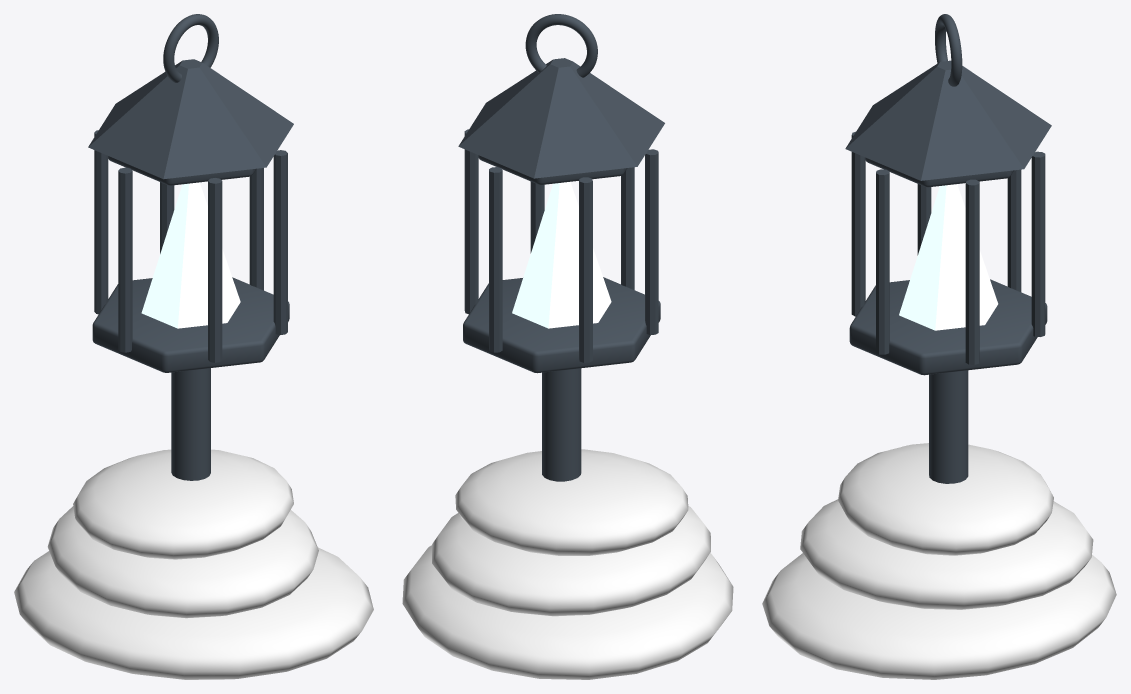
The model's file is aurora-beacon-lit.glb.
3 views of the same model, side by side, from view 1: azimuth 30°, elevation 25°; view 2: azimuth 150°, elevation 25°; view 3: azimuth 270°, elevation 25° (orthographic).
Visible parts, largest first — view 1: titan.beacon.stone.0, titan.beacon.stone.2, titan.beacon.stone.1, titan.beacon.roof, titan.beacon.cage-base, titan.beacon.crystal, titan.beacon.pole, titan.beacon.bar.4, titan.beacon.bar.3, titan.beacon.bar.5, titan.beacon.bar.2, titan.beacon.bar.0 (+3 smaller); view 2: titan.beacon.stone.0, titan.beacon.stone.2, titan.beacon.stone.1, titan.beacon.roof, titan.beacon.cage-base, titan.beacon.crystal, titan.beacon.pole, titan.beacon.bar.1, titan.beacon.bar.2, titan.beacon.bar.3, titan.beacon.bar.0, titan.beacon.handle (+3 smaller); view 3: titan.beacon.stone.0, titan.beacon.stone.1, titan.beacon.stone.2, titan.beacon.roof, titan.beacon.cage-base, titan.beacon.crystal, titan.beacon.pole, titan.beacon.bar.0, titan.beacon.bar.1, titan.beacon.bar.5, titan.beacon.bar.4, titan.beacon.bar.2 (+3 smaller).
Boxes of the visible parts, left/top/right/bottom form: titan.beacon.stone.0: left=14, top=547, right=373, bottom=679; titan.beacon.stone.2: left=73, top=449, right=293, bottom=559; titan.beacon.stone.1: left=47, top=506, right=318, bottom=618; titan.beacon.roof: left=88, top=59, right=293, bottom=179; titan.beacon.cage-base: left=92, top=277, right=289, bottom=372; titan.beacon.crystal: left=141, top=182, right=240, bottom=328; titan.beacon.pole: left=171, top=368, right=210, bottom=480; titan.beacon.bar.4: left=208, top=178, right=222, bottom=362; titan.beacon.bar.3: left=118, top=167, right=132, bottom=352; titan.beacon.bar.5: left=273, top=150, right=287, bottom=334; titan.beacon.bar.2: left=94, top=130, right=108, bottom=314; titan.beacon.bar.0: left=249, top=168, right=263, bottom=290; titan.beacon.stone.0: left=402, top=545, right=733, bottom=679; titan.beacon.stone.2: left=455, top=449, right=688, bottom=555; titan.beacon.stone.1: left=432, top=506, right=710, bottom=616; titan.beacon.roof: left=458, top=58, right=664, bottom=178; titan.beacon.cage-base: left=463, top=277, right=660, bottom=373; titan.beacon.crystal: left=512, top=182, right=611, bottom=328; titan.beacon.pole: left=542, top=368, right=581, bottom=481; titan.beacon.bar.1: left=489, top=167, right=502, bottom=352; titan.beacon.bar.2: left=579, top=177, right=592, bottom=362; titan.beacon.bar.3: left=645, top=149, right=658, bottom=334; titan.beacon.bar.0: left=464, top=129, right=478, bottom=314; titan.beacon.handle: left=525, top=14, right=597, bottom=77; titan.beacon.stone.0: left=762, top=553, right=1116, bottom=679; titan.beacon.stone.1: left=800, top=499, right=1093, bottom=609; titan.beacon.stone.2: left=838, top=443, right=1053, bottom=555; titan.beacon.roof: left=845, top=60, right=1051, bottom=180; titan.beacon.cage-base: left=849, top=279, right=1047, bottom=375; titan.beacon.crystal: left=899, top=184, right=998, bottom=330; titan.beacon.pole: left=929, top=370, right=968, bottom=483; titan.beacon.bar.0: left=965, top=179, right=979, bottom=364; titan.beacon.bar.1: left=1031, top=151, right=1045, bottom=336; titan.beacon.bar.5: left=876, top=169, right=889, bottom=354; titan.beacon.bar.4: left=851, top=131, right=865, bottom=316; titan.beacon.bar.2: left=1007, top=169, right=1021, bottom=291.
Size of the model in its own units: 0.8695 by 1.73 by 0.8943.
